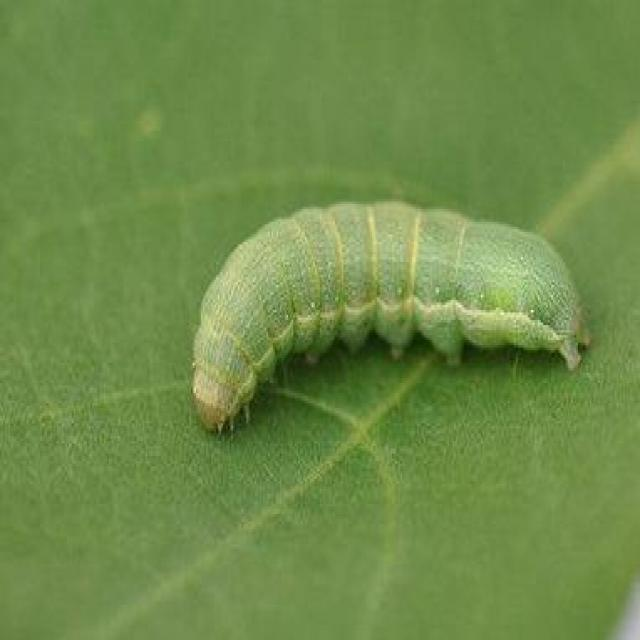BeetArmyWorm-Larva-: (183, 193, 586, 432)
